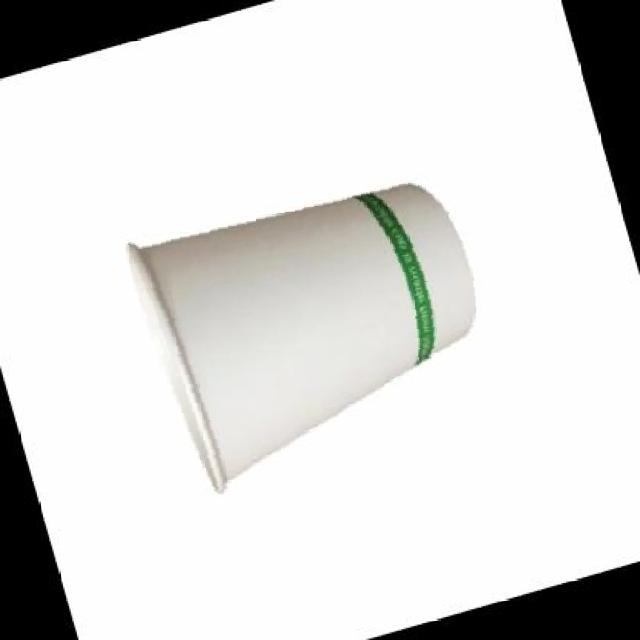non-biodegradable: (102, 103, 532, 531)
